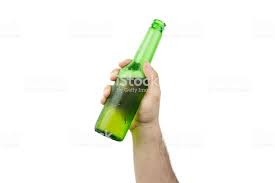beer: (94, 18, 166, 140)
